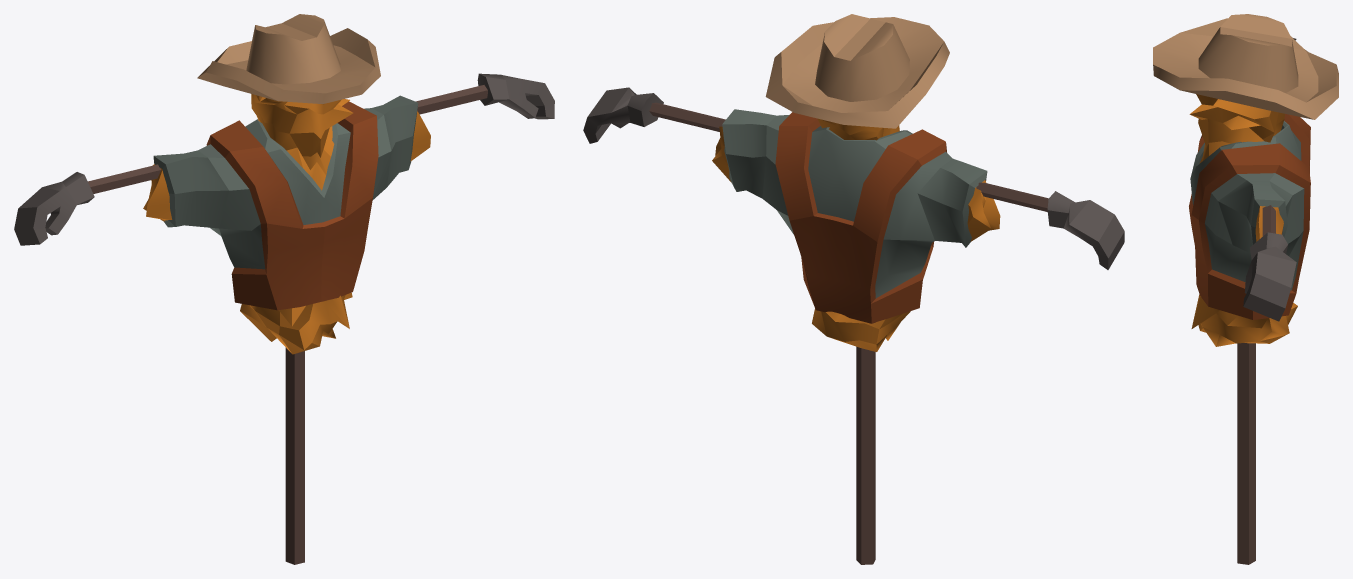
File: Scarecrow.fbx
The picture shows the model from 3 angles, left to right: view 1: azimuth 30°, elevation 25°; view 2: azimuth 150°, elevation 25°; view 3: azimuth 270°, elevation 25°; orthographic projection.
Visible parts, largest first — view 1: Scarecrow; view 2: Scarecrow; view 3: Scarecrow.
Part boxes in pixels (box(x1,y1,x2,y2)): Scarecrow: box(14, 14, 554, 564); Scarecrow: box(583, 14, 1124, 564); Scarecrow: box(1153, 14, 1338, 564).
Size of the model in its own units: 58.97 by 57.59 by 18.09.
